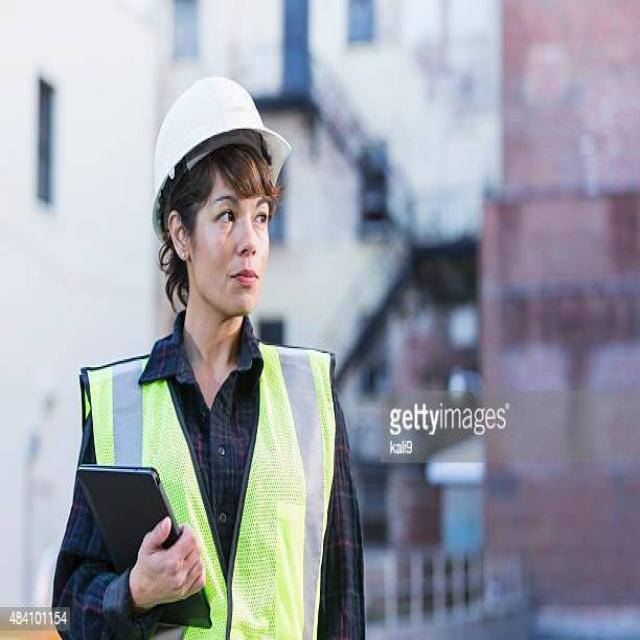helmet: (150, 67, 308, 189)
no-goggles: (166, 194, 278, 233)
vest: (91, 339, 346, 640)
